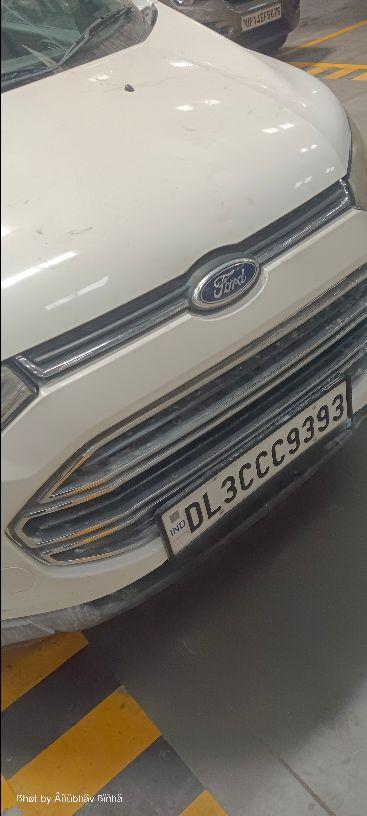license_plate: (155, 372, 353, 560), (239, 2, 282, 31)
